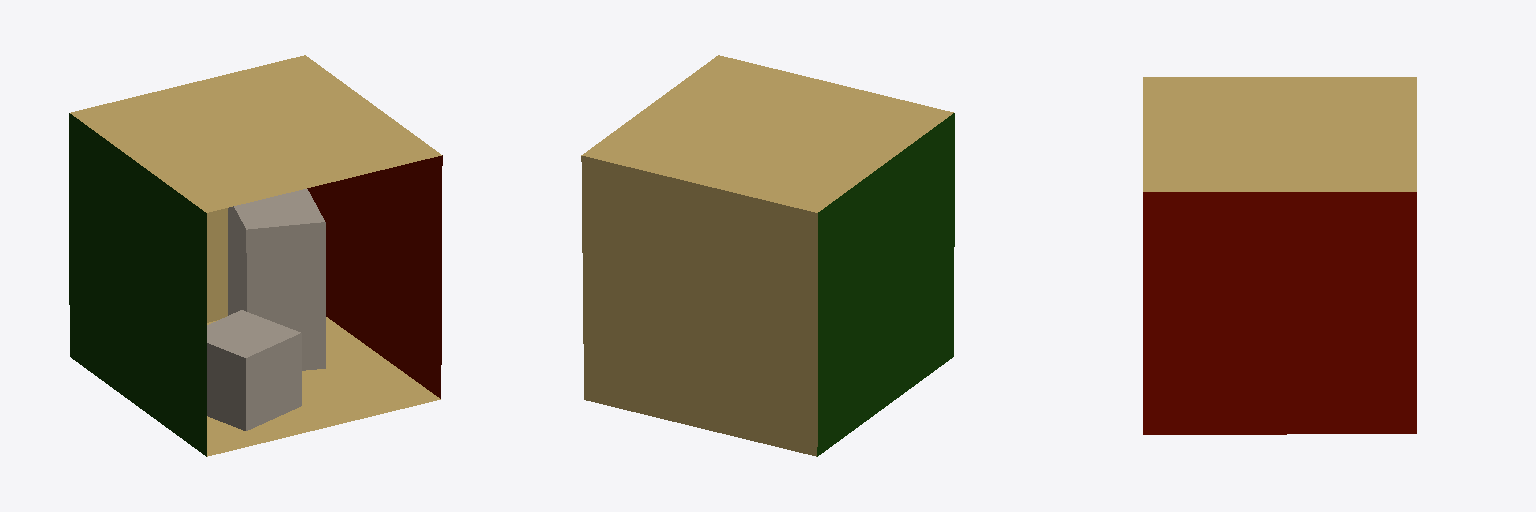
Rendered from cornellbox-microfacet.obj.
3 renders of one model, left to right at view 1: azimuth 30°, elevation 25°; view 2: azimuth 150°, elevation 25°; view 3: azimuth 270°, elevation 25°, orthographic.
Bounding box in the file's own units: 0.7808 × 0.7709 × 0.7855.